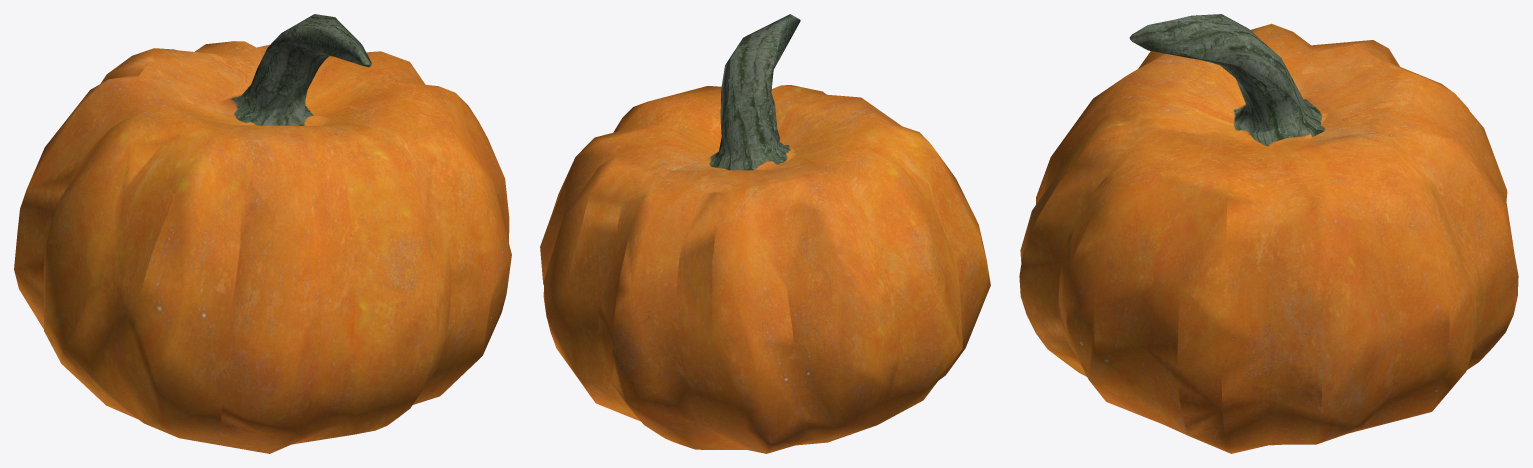
The model's file is 7769TA21YH1MLD8EJCYIMS0QZ.obj.
3 views of the same model, side by side, from view 1: azimuth 30°, elevation 25°; view 2: azimuth 150°, elevation 25°; view 3: azimuth 270°, elevation 25° (orthographic). The views are drawn at different scales.
Size of the model in its own units: 2.45 by 2.19 by 2.47.
1 material, 1 textured.
